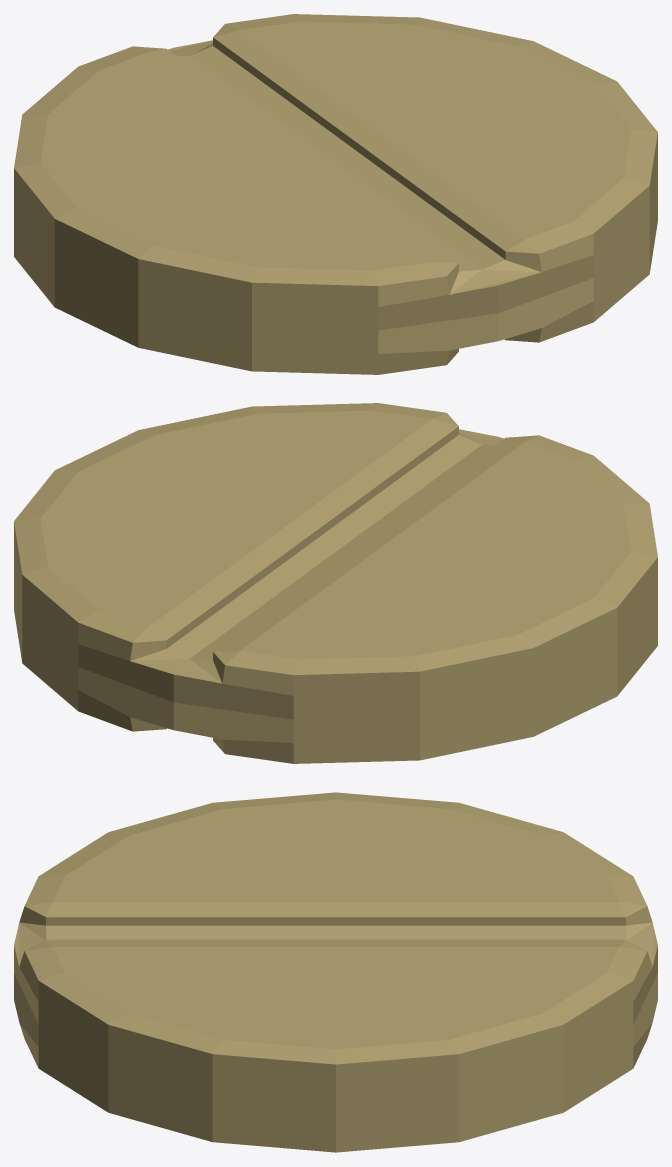
File: Pilula.fbx
3 renders of one model, top to bottom at view 1: azimuth 30°, elevation 25°; view 2: azimuth 150°, elevation 25°; view 3: azimuth 270°, elevation 25°, orthographic.
Parts seen in each view (by area): view 1: Cylinder; view 2: Cylinder; view 3: Cylinder.
Part boxes in pixels (box(x1,y1,x2,y2)): Cylinder: box(14, 14, 657, 374); Cylinder: box(14, 403, 657, 763); Cylinder: box(14, 792, 657, 1152).
Size of the model in its own units: 200 by 200 by 32.89.
